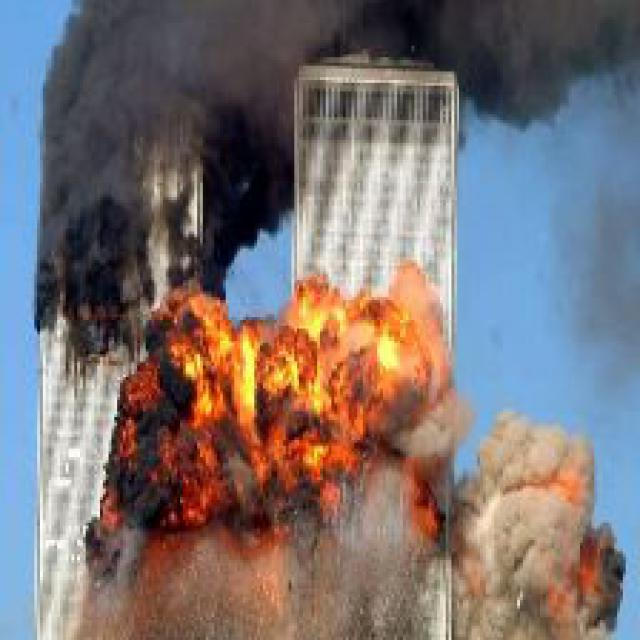fire: (91, 260, 446, 591)
